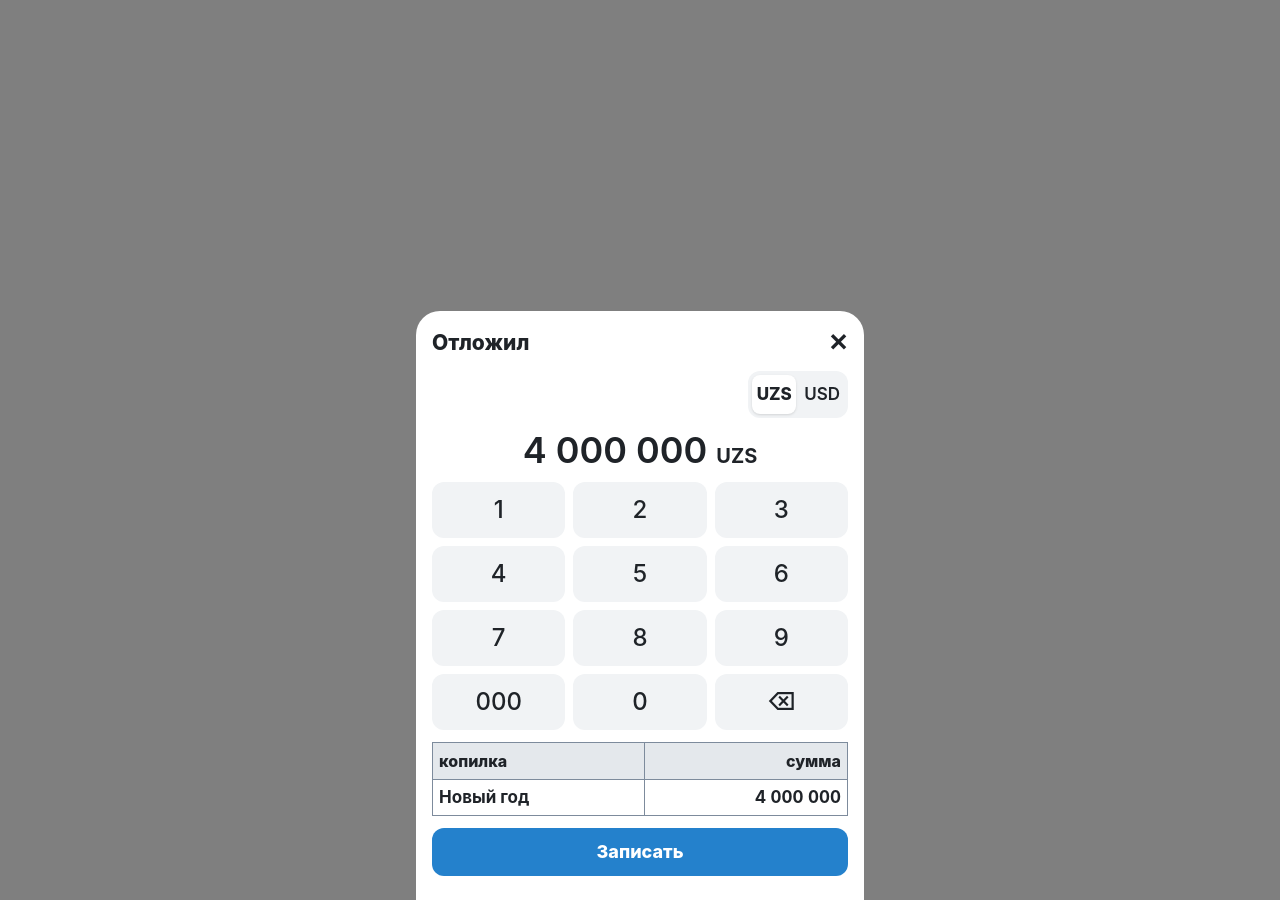
it: SaveSheet › a bigger sum leaves the rest to the cushion
The image size is (1280, 900).
Click the button "000" at point(499, 702), box [432, 674, 565, 730]
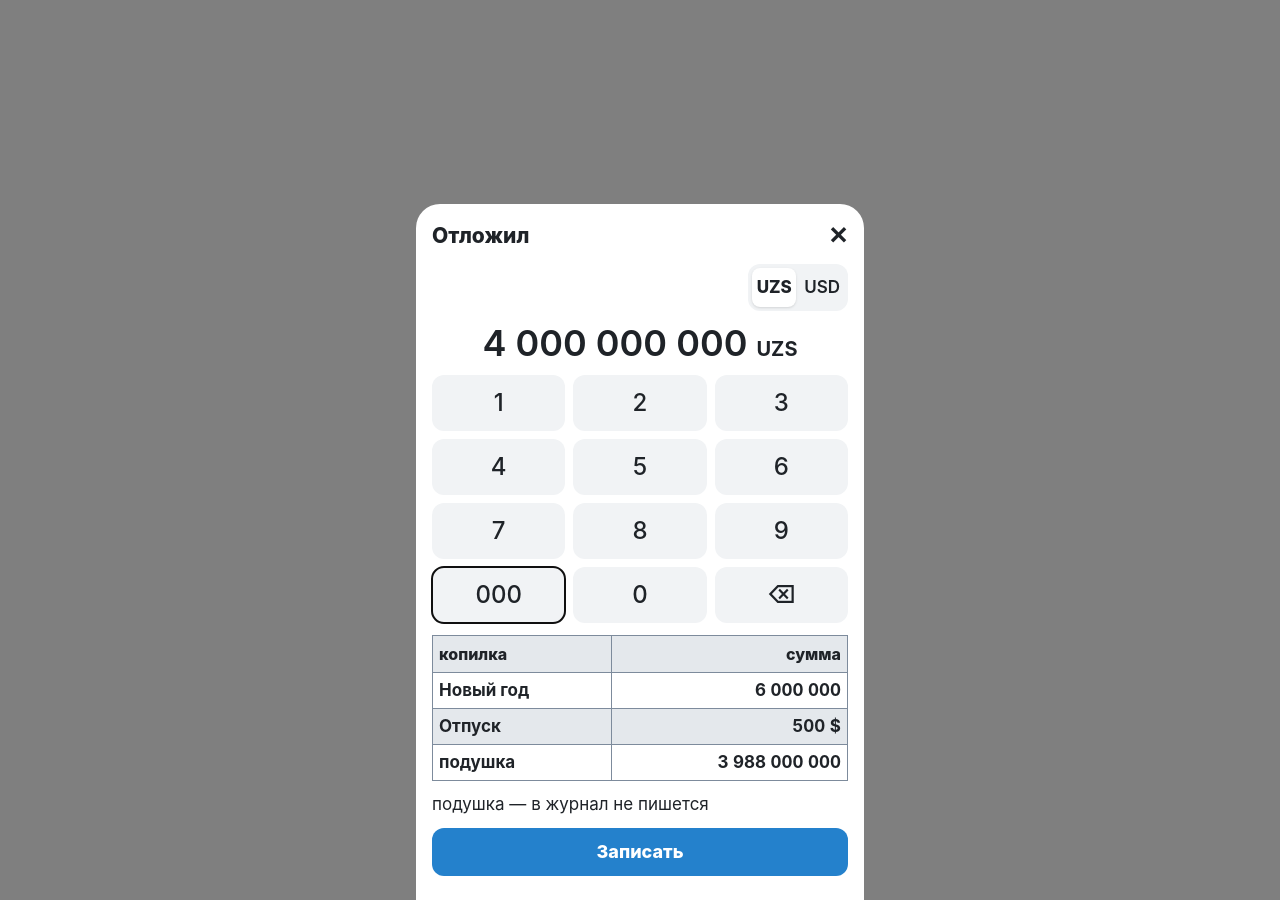
Result: the text "подушка — в журнал не пишется" is shown at [432, 794, 709, 814]
